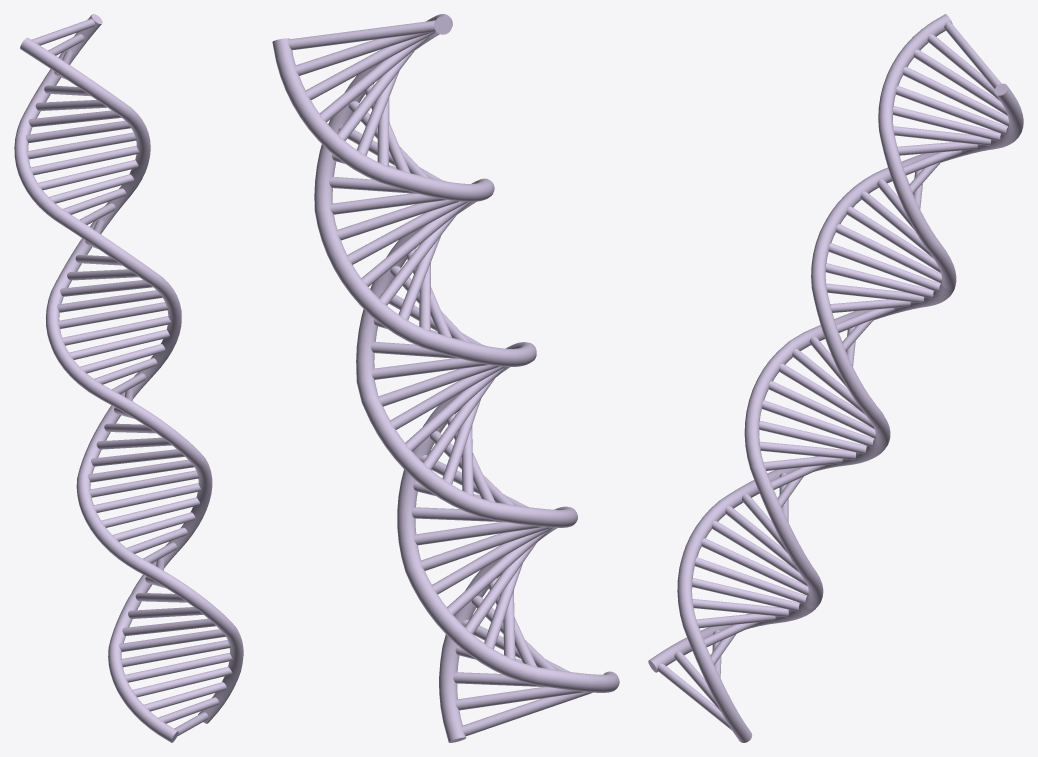
File: DNA.c4d.fbx
3 renders of one model, left to right at view 1: azimuth 30°, elevation 25°; view 2: azimuth 150°, elevation 25°; view 3: azimuth 270°, elevation 25°, orthographic. The views are drawn at different scales.
Visible parts, largest first — view 1: DNA; view 2: DNA; view 3: DNA.
Boxes of the visible parts, <box> form: DNA: <box>14,14,243,742</box>; DNA: <box>272,14,619,742</box>; DNA: <box>648,14,1023,742</box>.
Size of the model in its own units: 59.05 by 303 by 151.
